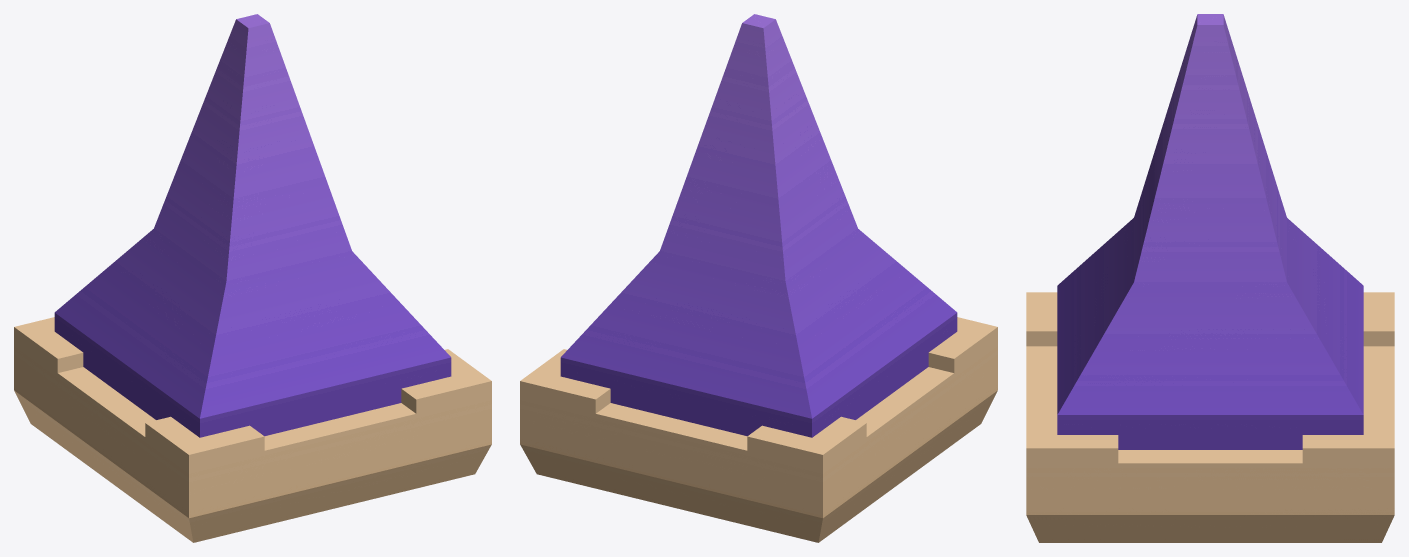
File: tower-square-top-roof-high.glb
The picture shows the model from 3 angles, left to right: view 1: azimuth 30°, elevation 25°; view 2: azimuth 150°, elevation 25°; view 3: azimuth 270°, elevation 25°; orthographic projection. The views are drawn at different scales.
Parts seen in each view (by area): view 1: tower-square-top-roof-high; view 2: tower-square-top-roof-high; view 3: tower-square-top-roof-high.
Part boxes in pixels (left/top/right/bottom): tower-square-top-roof-high: left=14, top=14, right=491, bottom=542; tower-square-top-roof-high: left=520, top=14, right=997, bottom=542; tower-square-top-roof-high: left=1026, top=14, right=1394, bottom=542.
Bounding box in the file's own units: 1 × 1.35 × 1.
